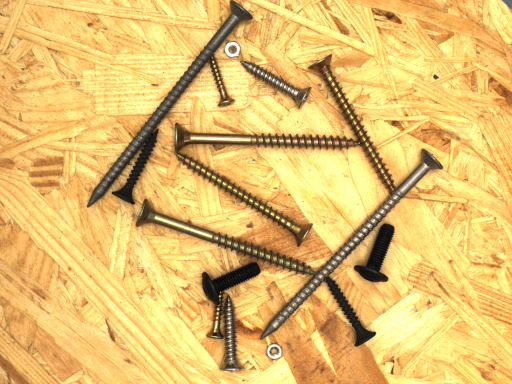screw_long: (240, 135, 457, 361), (72, 0, 260, 229)
